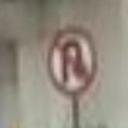NoVirarU: (44, 25, 100, 97)
